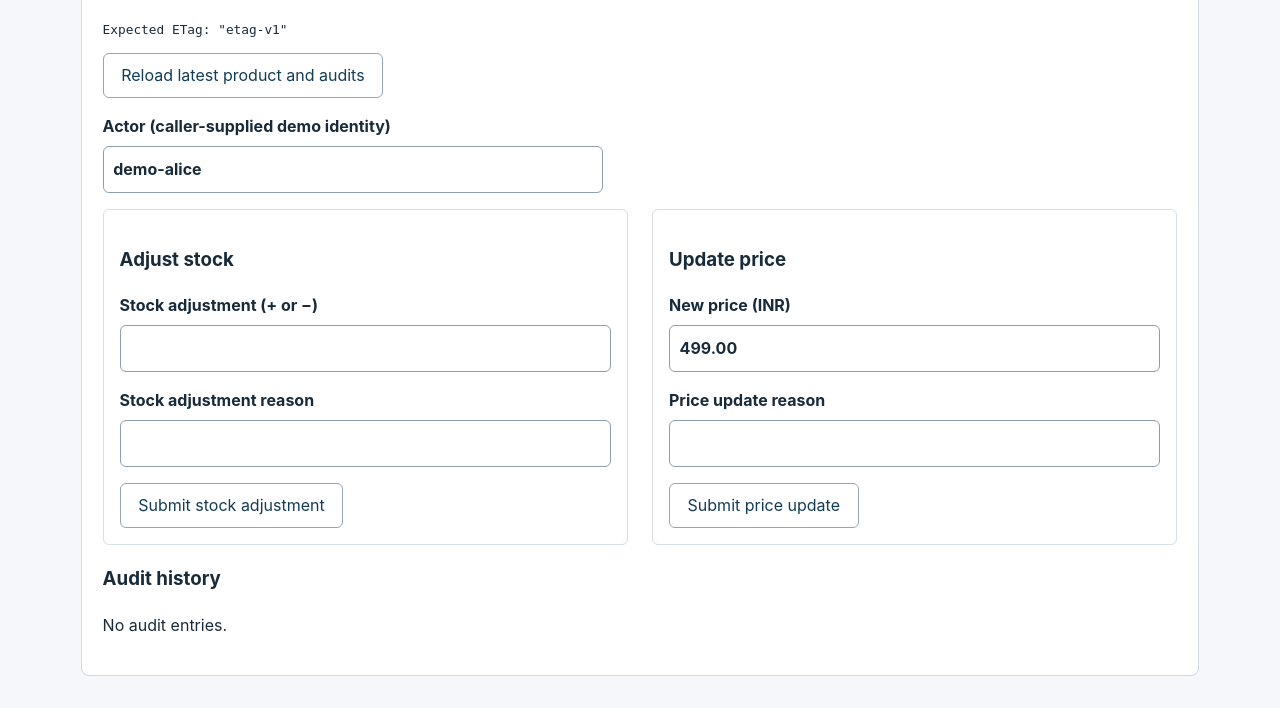
it: 412 never retries or silently reloads; preserves form values until explicit reload/resubmit
The width and height of the screenshot is (1280, 708).
(page scrolled)
Expected: the button "Submit stock adjustment" is enabled, x1=120 y1=483 x2=343 y2=528
Type "5" into the number field labelled "Stock adjustment (+ or −)" at (365, 349), box x1=120 y1=325 x2=611 y2=372
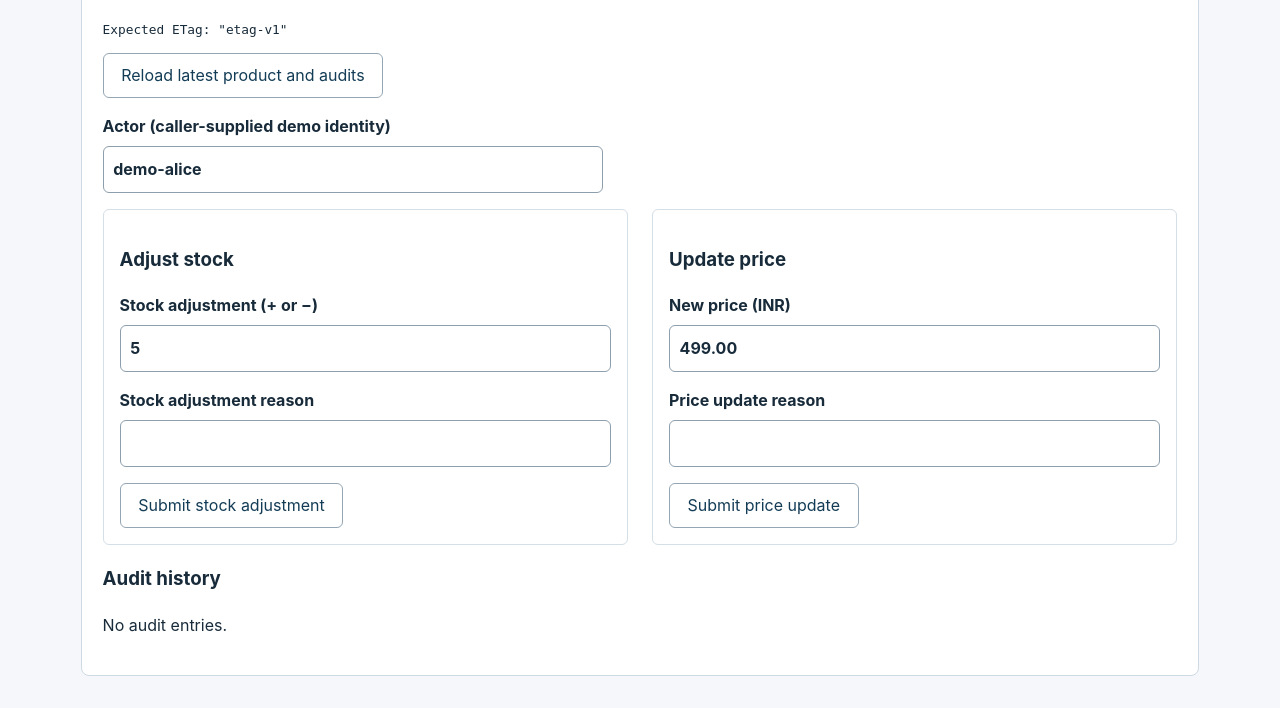
Type "Stock recount" into the field labelled "Stock adjustment reason" at (365, 444), box x1=120 y1=420 x2=611 y2=467
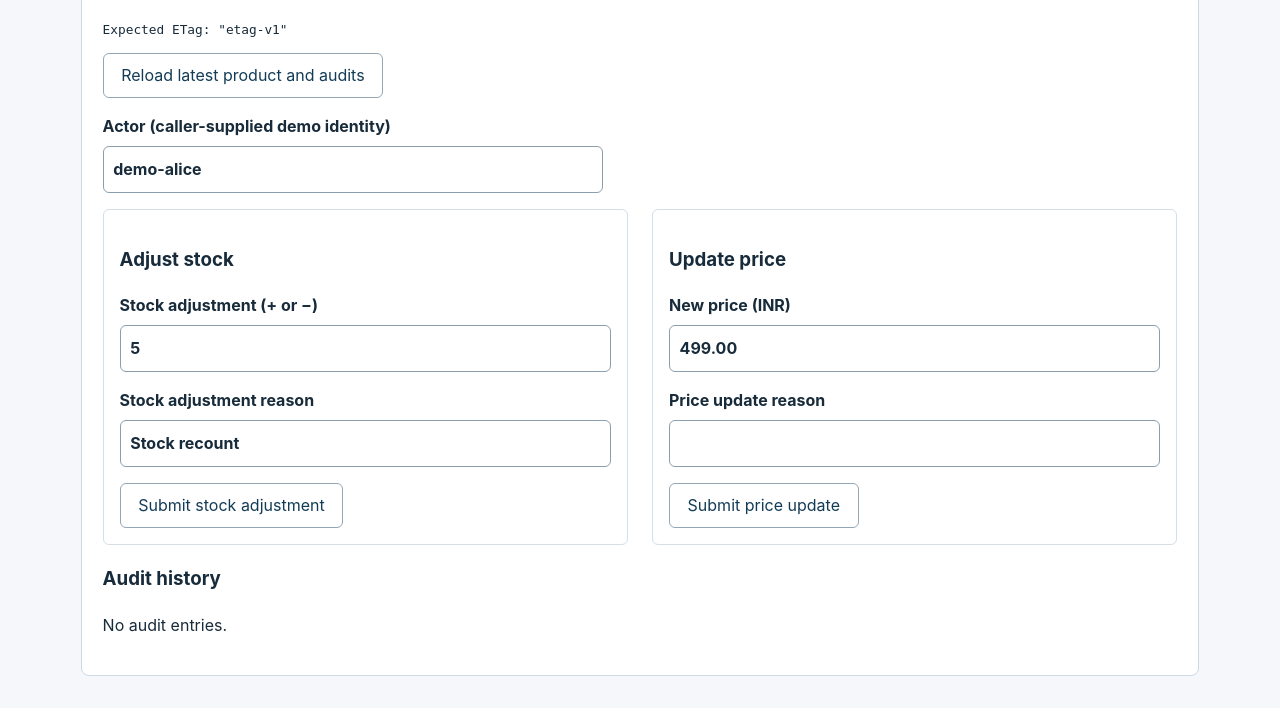
Click the button "Submit stock adjustment" at (231, 506), box x1=120 y1=483 x2=343 y2=528
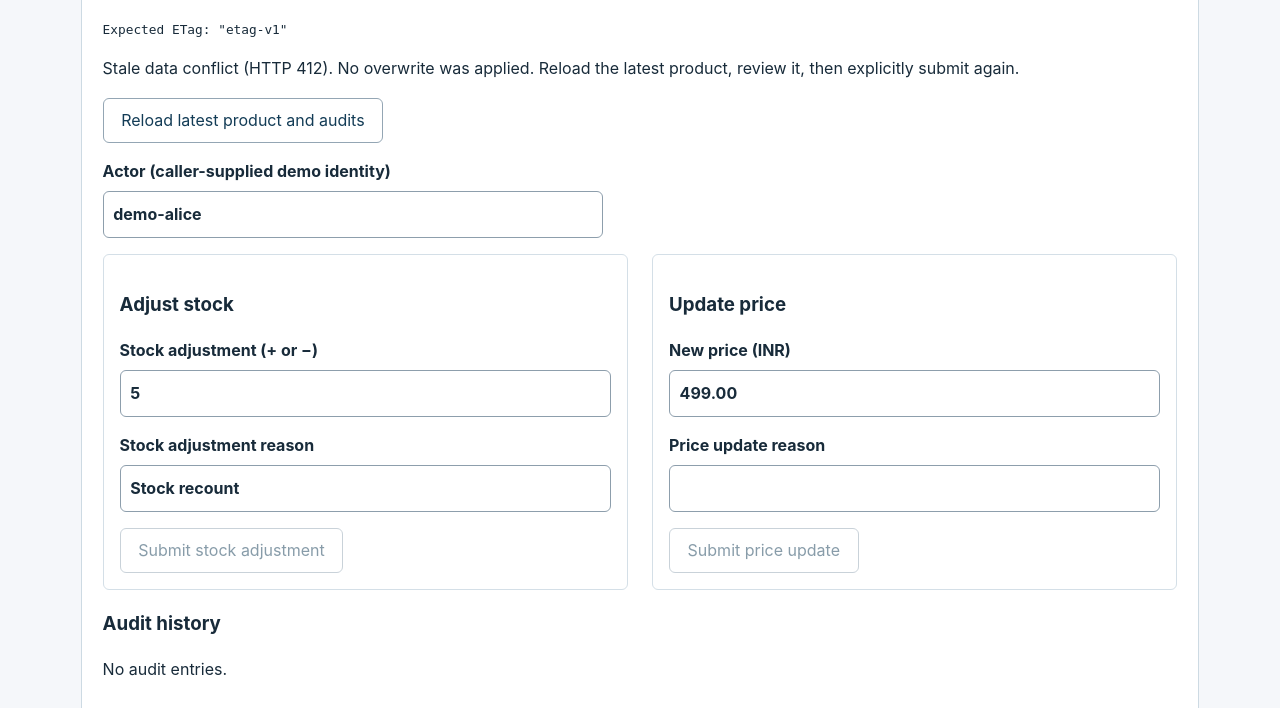
Expected: the message shows "Stale data conflict (HTTP 412)", x1=103 y1=58 x2=1019 y2=78
Expected: the button "Submit stock adjustment" is disabled, x1=120 y1=528 x2=343 y2=573
Click the button "Reload latest product and audits" at (243, 120), box x1=103 y1=98 x2=383 y2=143
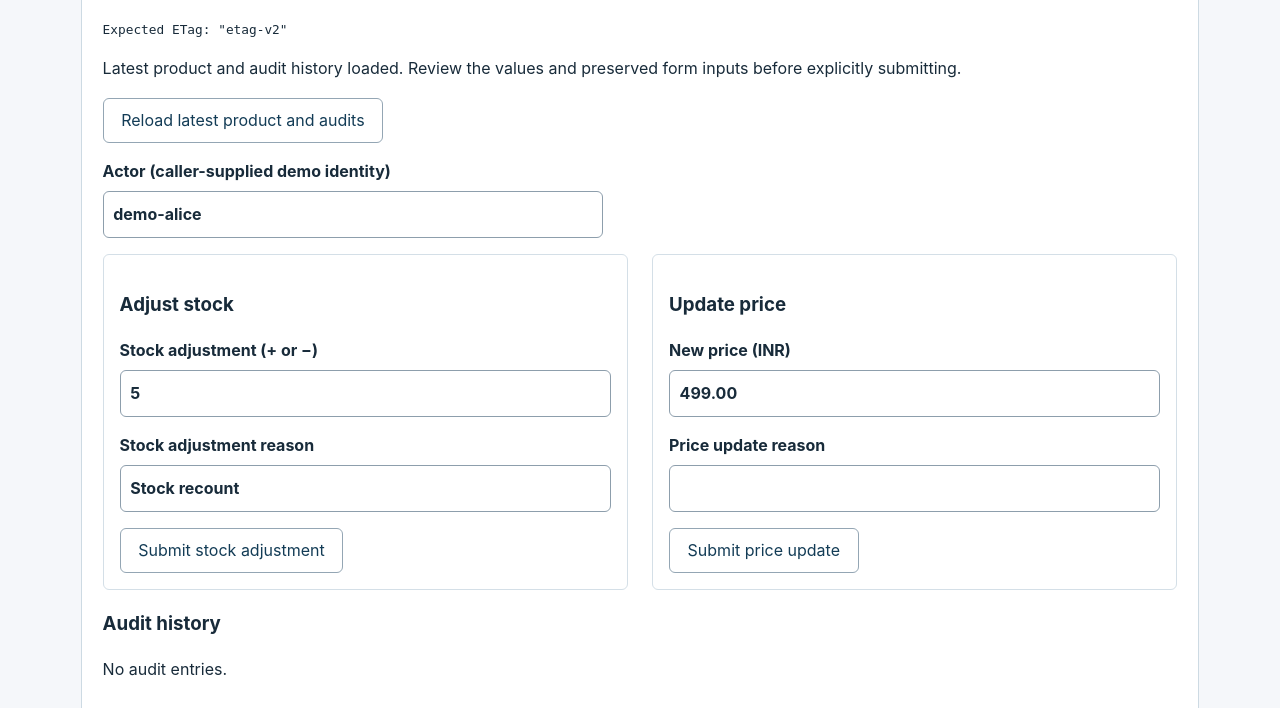
Expected: the text "Latest product and audit history loaded" is shown, x1=103 y1=58 x2=962 y2=78
Click the button "Submit stock adjustment" at (231, 550), box x1=120 y1=528 x2=343 y2=573
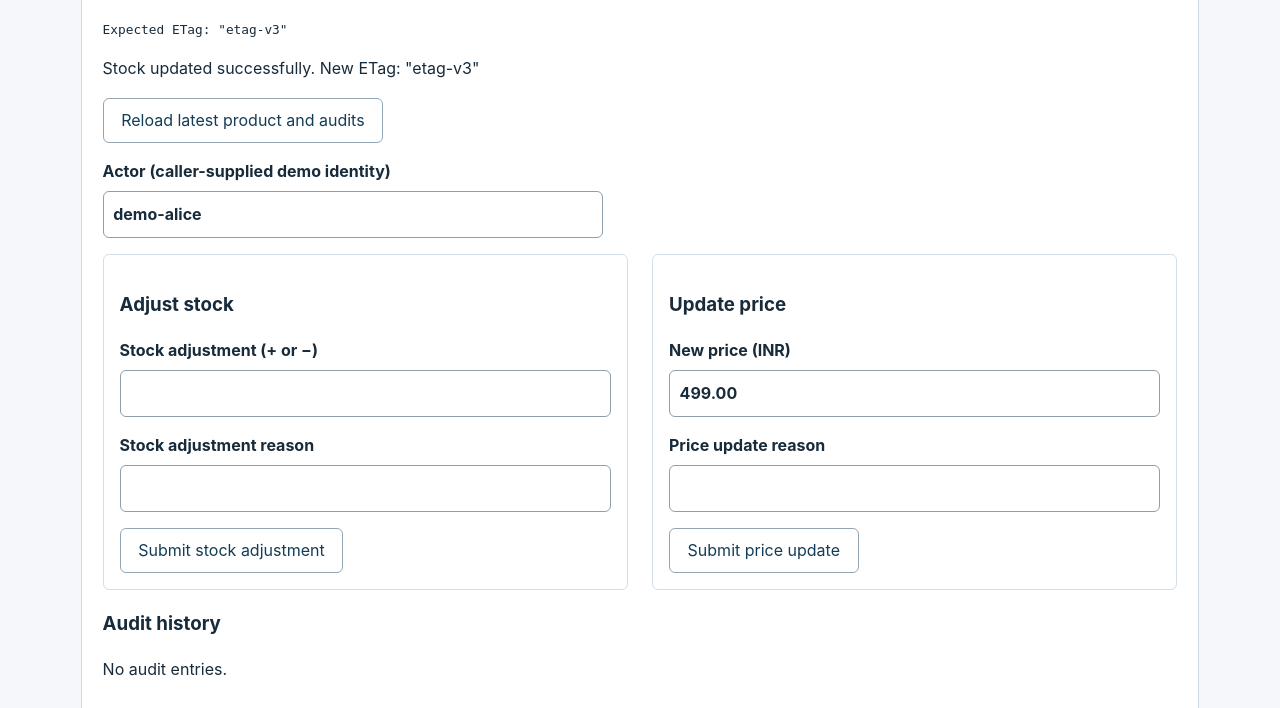
Expected: the text "Stock updated successfully. New ETag: \"etag-v3\"" is shown, x1=103 y1=58 x2=479 y2=78
